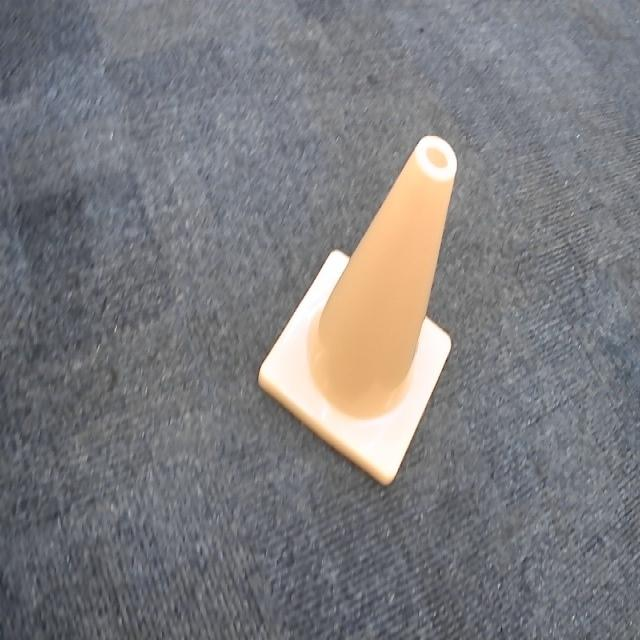cone: (254, 129, 462, 501)
